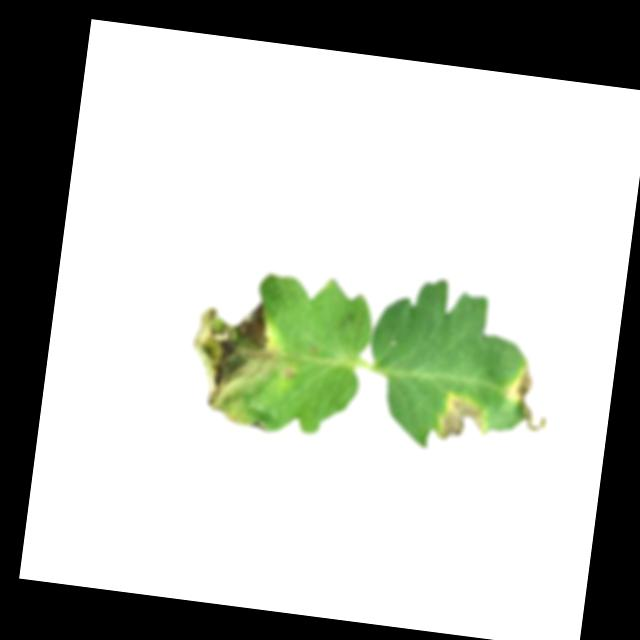Late_blight: (181, 294, 302, 433), (500, 359, 555, 434), (438, 393, 493, 447)
